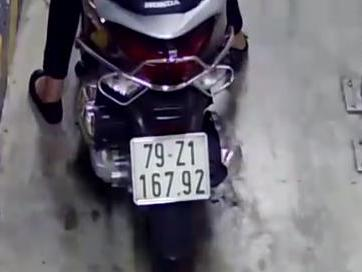num_plate: (126, 134, 214, 206)
